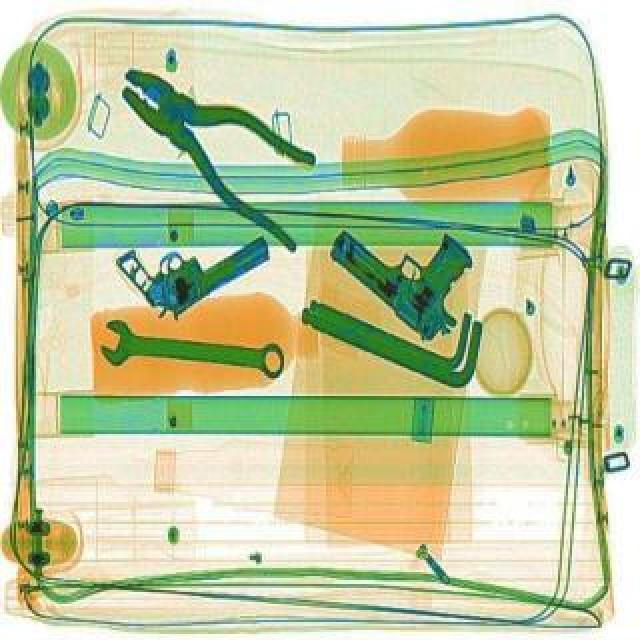gun: (320, 178, 504, 348), (112, 184, 284, 328)
scissors: (98, 316, 292, 382)
wrench: (92, 40, 352, 254)
